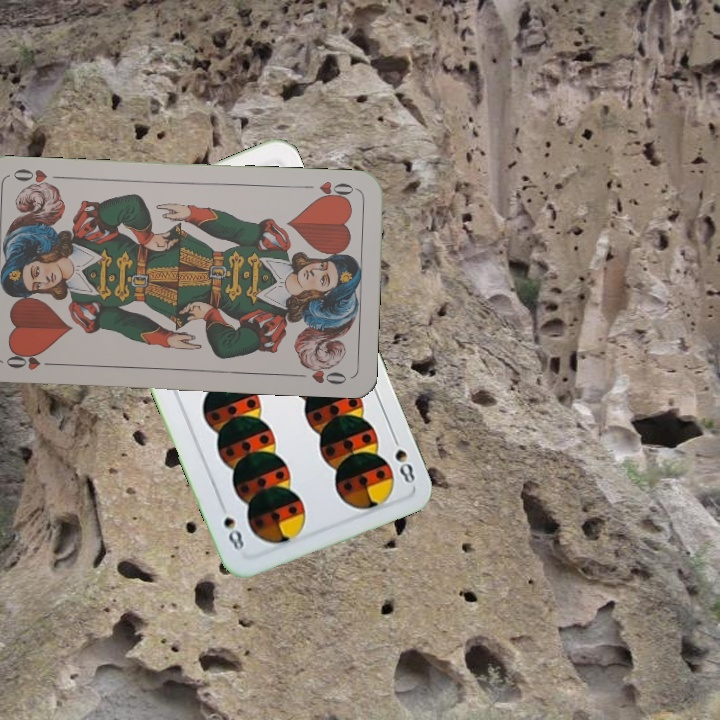HO: (299, 177, 358, 203), (2, 349, 61, 373)
S8: (387, 429, 418, 487)
